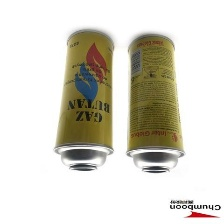aerosol_cans: (51, 27, 116, 175), (124, 31, 187, 176)
